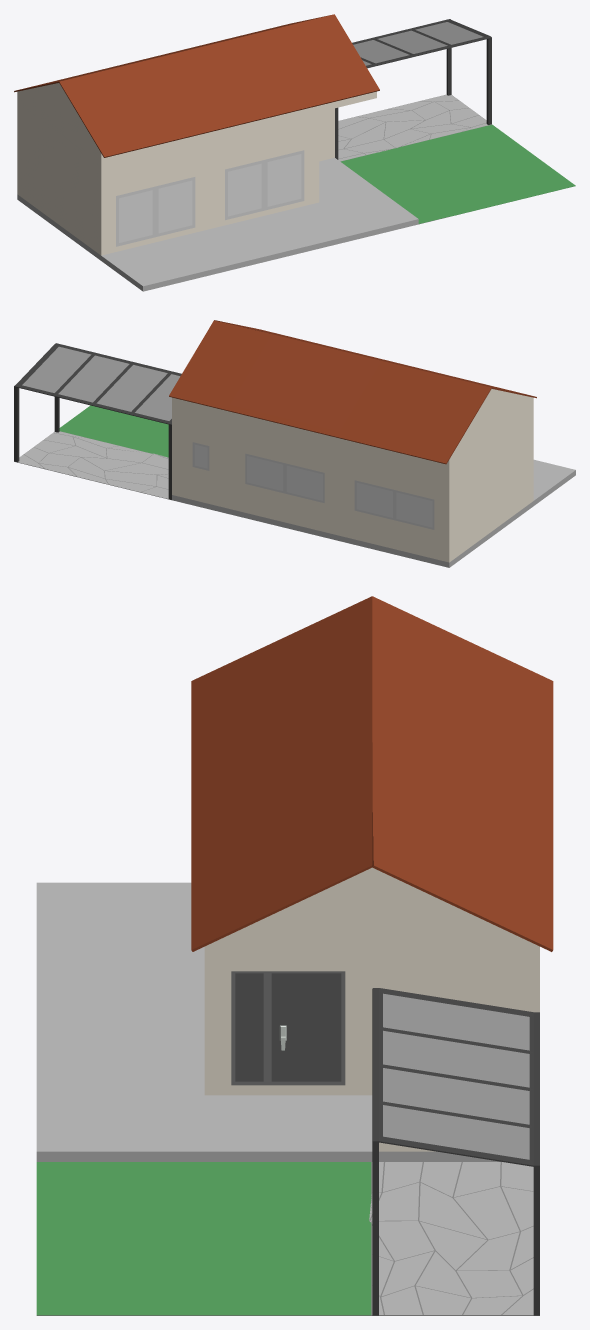
The model's file is house_a2.fbx.
The picture shows the model from 3 angles, top to bottom: view 1: azimuth 30°, elevation 25°; view 2: azimuth 150°, elevation 25°; view 3: azimuth 270°, elevation 25°; orthographic projection. The views are drawn at different scales.
Parts seen in each view (by area): view 1: house, garage.floor, garage; view 2: house, garage.floor, garage; view 3: house, garage.floor, garage.
Boxes of the visible parts, x1=… form: house: x1=14, y1=14, x2=418, y2=291; garage.floor: x1=338, y1=94, x2=575, y2=224; garage: x1=335, y1=19, x2=491, y2=159; house: x1=169, y1=320, x2=575, y2=567; garage.floor: x1=14, y1=405, x2=171, y2=500; garage: x1=14, y1=343, x2=181, y2=499; house: x1=36, y1=596, x2=553, y2=1161; garage.floor: x1=36, y1=1162, x2=539, y2=1315; garage: x1=372, y1=988, x2=539, y2=1315.
Bounding box in the file's own units: 14.89 × 4.89 × 7.7.
